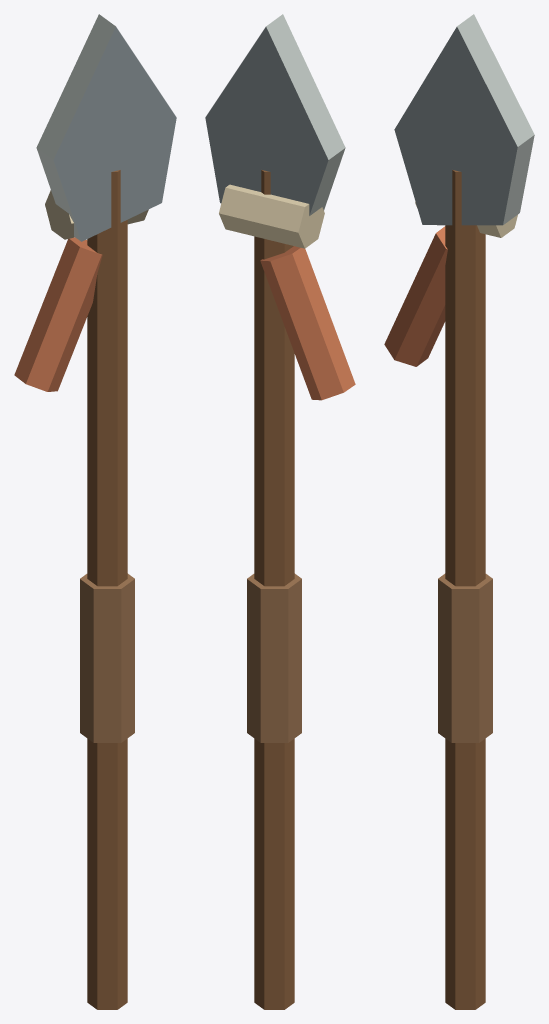
File: great_spear.glb
3 renders of one model, left to right at view 1: azimuth 30°, elevation 25°; view 2: azimuth 150°, elevation 25°; view 3: azimuth 330°, elevation 25°, orthographic.
Visible parts, largest first — view 1: great_spear; view 2: great_spear; view 3: great_spear.
Boxes of the visible parts, x1,y1,x2,y2 form: great_spear: [14, 14, 176, 1009]; great_spear: [205, 14, 355, 1009]; great_spear: [384, 14, 534, 1009].
Bounding box in the file's own units: 0.309 × 2.04 × 0.125.
